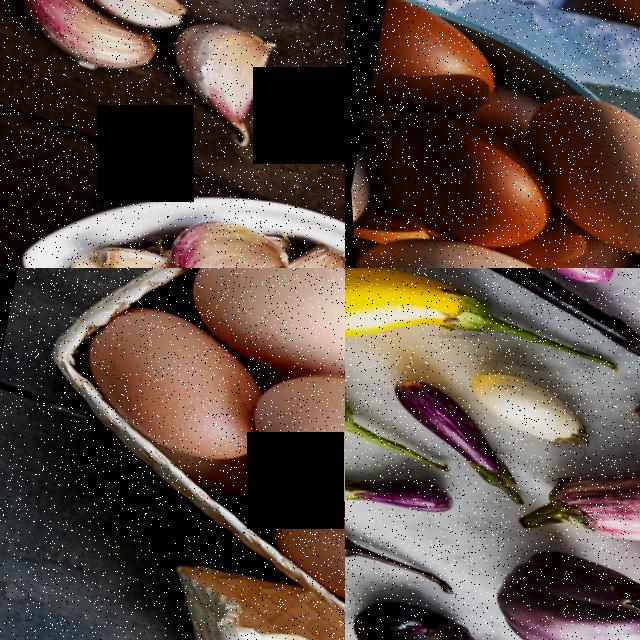egg_: (69, 283, 277, 474), (346, 90, 561, 266), (507, 68, 640, 268), (236, 337, 345, 542), (186, 268, 345, 388), (361, 0, 509, 127), (347, 206, 607, 268), (259, 473, 345, 633)
eggplant: (517, 419, 640, 584), (474, 522, 640, 640), (373, 370, 529, 492), (458, 355, 598, 451), (345, 436, 457, 541)
garlic: (159, 0, 280, 126), (0, 0, 169, 89), (154, 194, 288, 268), (251, 212, 345, 268), (54, 0, 199, 31)
